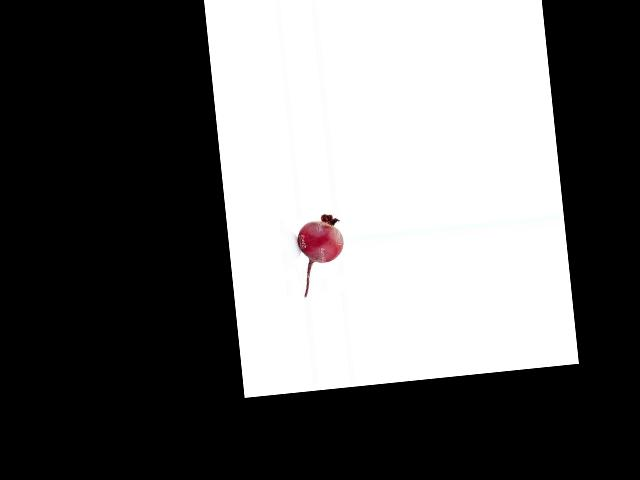beet: (295, 212, 348, 296)
